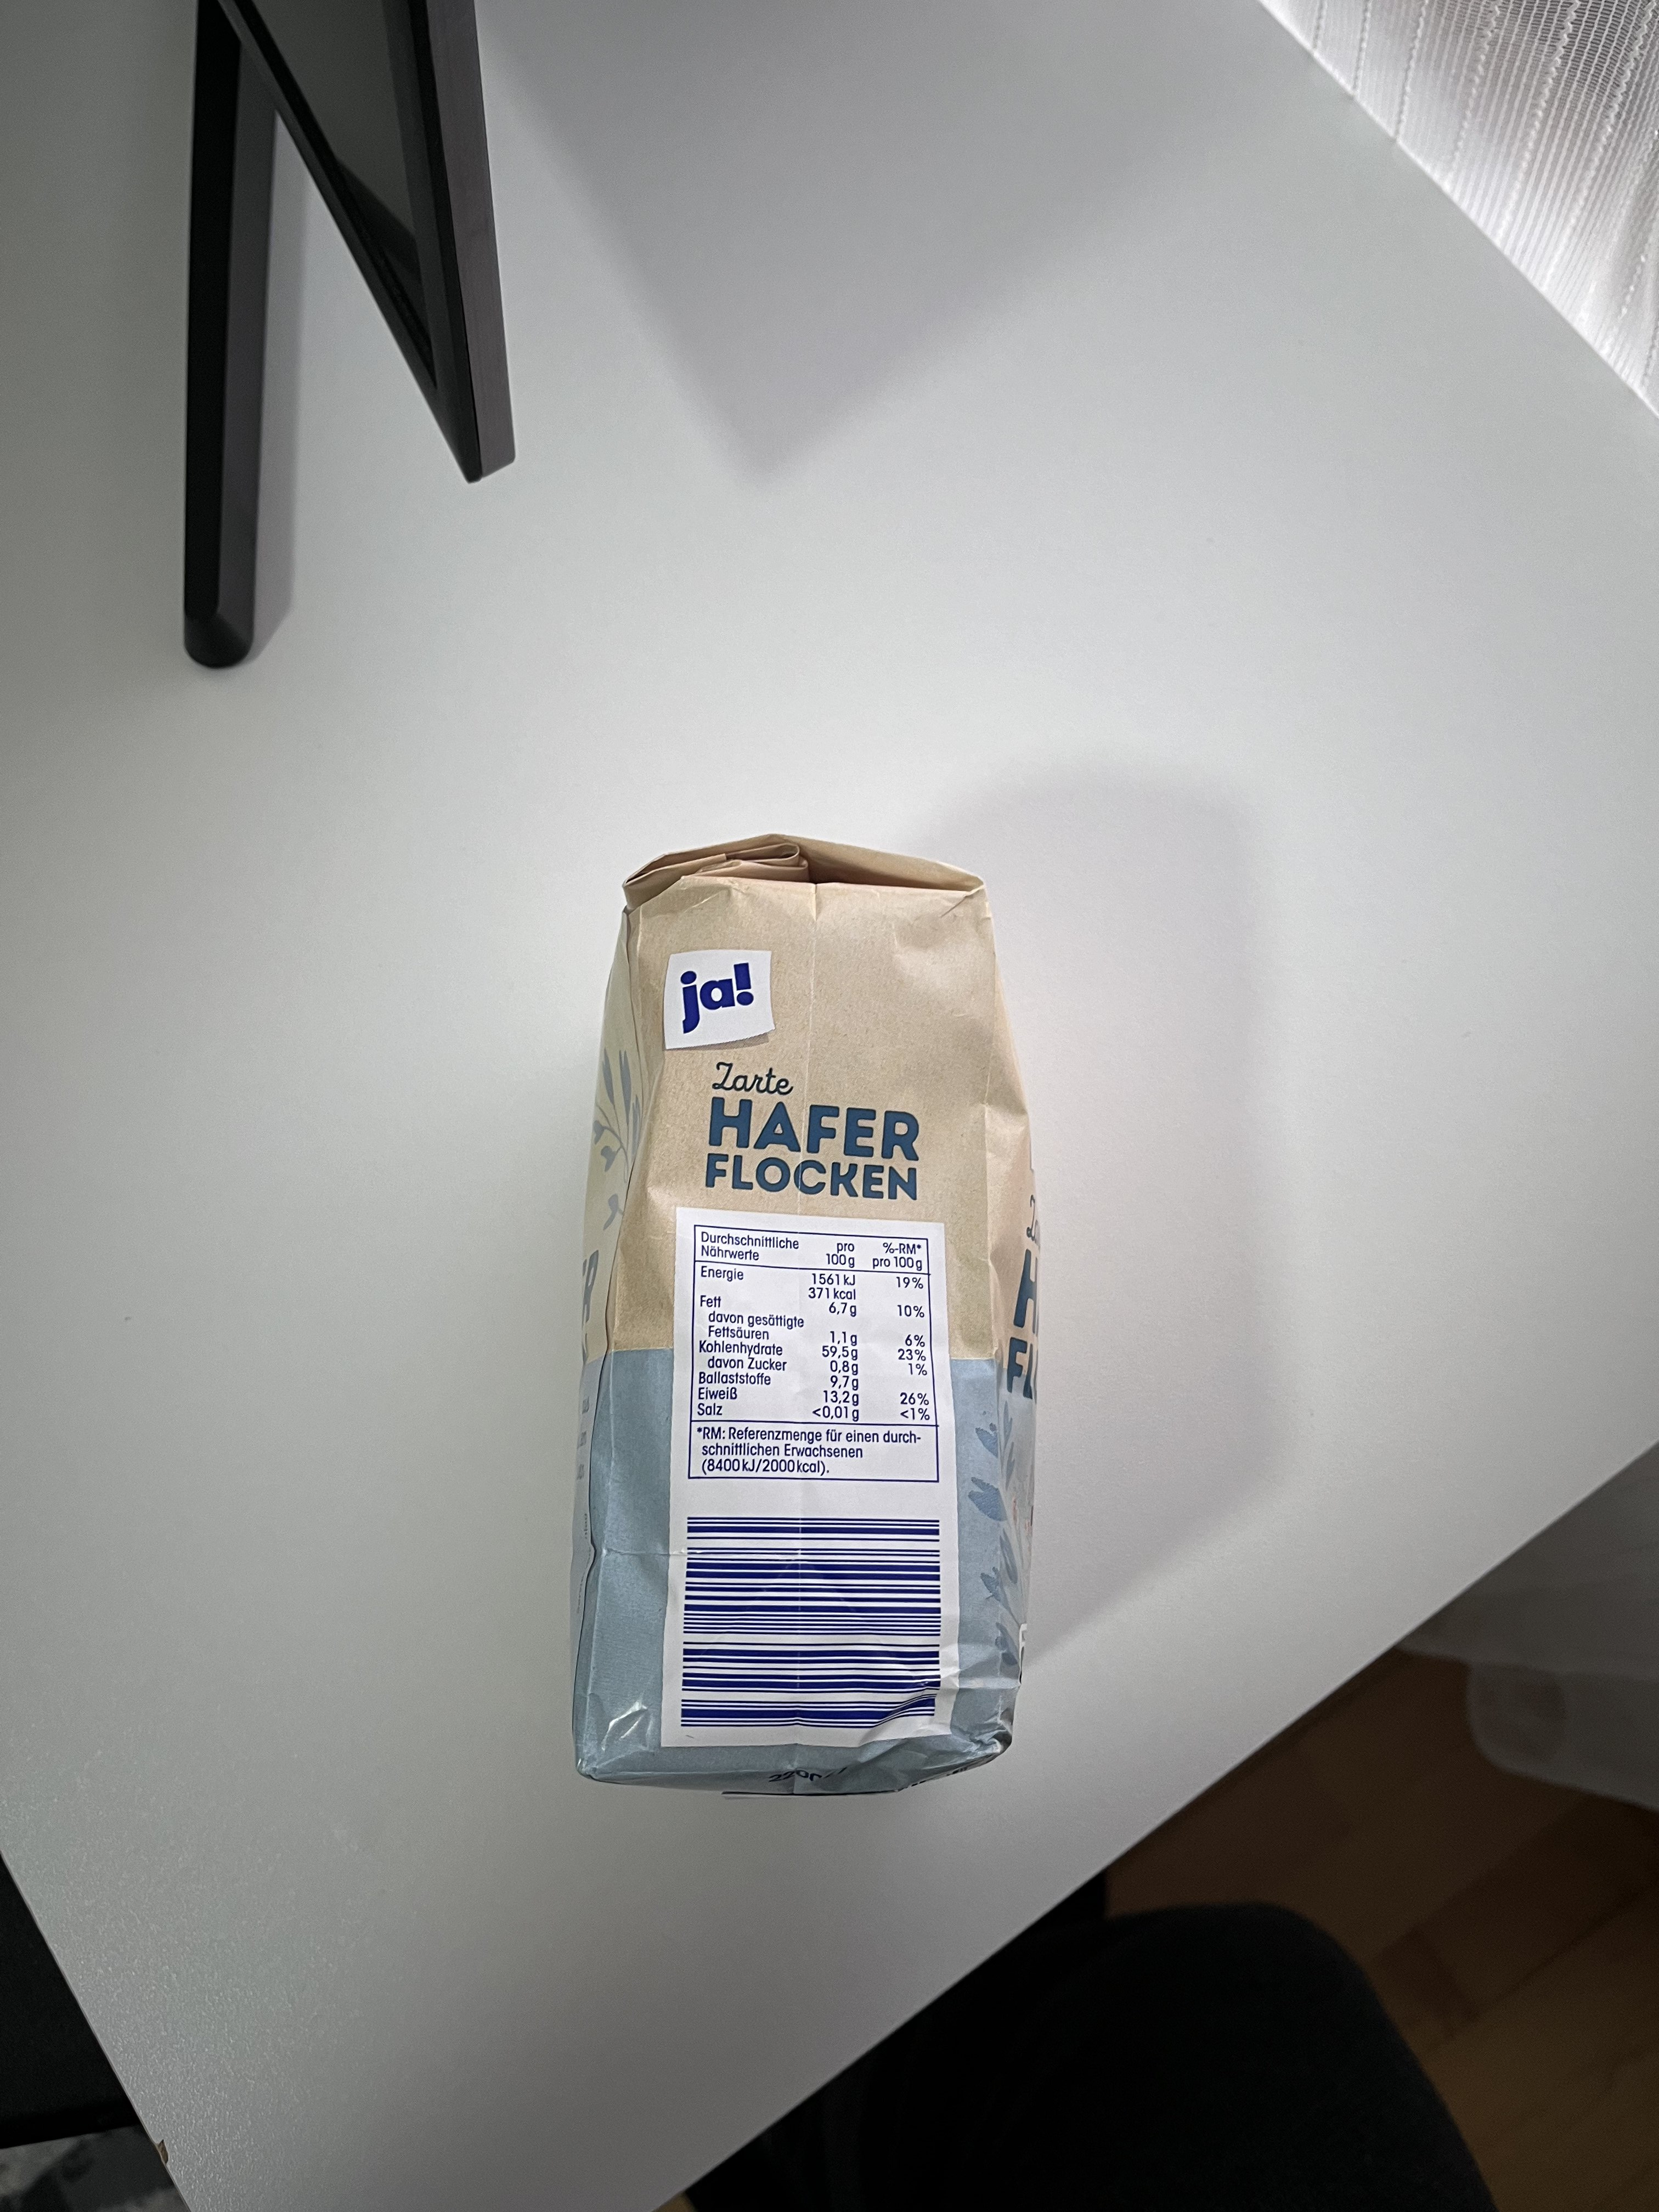haferflocken_ja: (568, 833, 1047, 1803)
